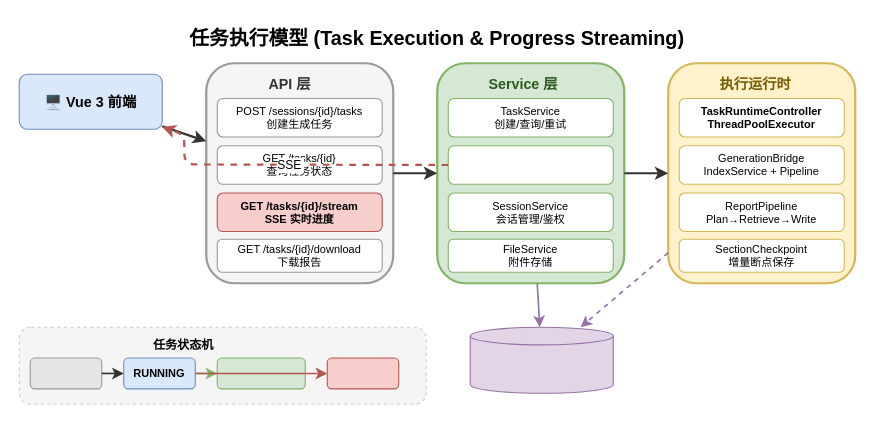
The diagram is 876 pixels wide and 424 high, and some of its shapes have lost their labels. Each missing label, with the centre of its shape:
"COMPLETED" belongs at point 260,373.
"FAILED" belongs at point 362,373.
"QUEUED" belongs at point 65,373.
"TaskProgressBroker pub/sub 进度分发" belongs at point 530,164.
"🗄️ MySQL Session / Task / Checkpoint" belongs at point 541,359.
